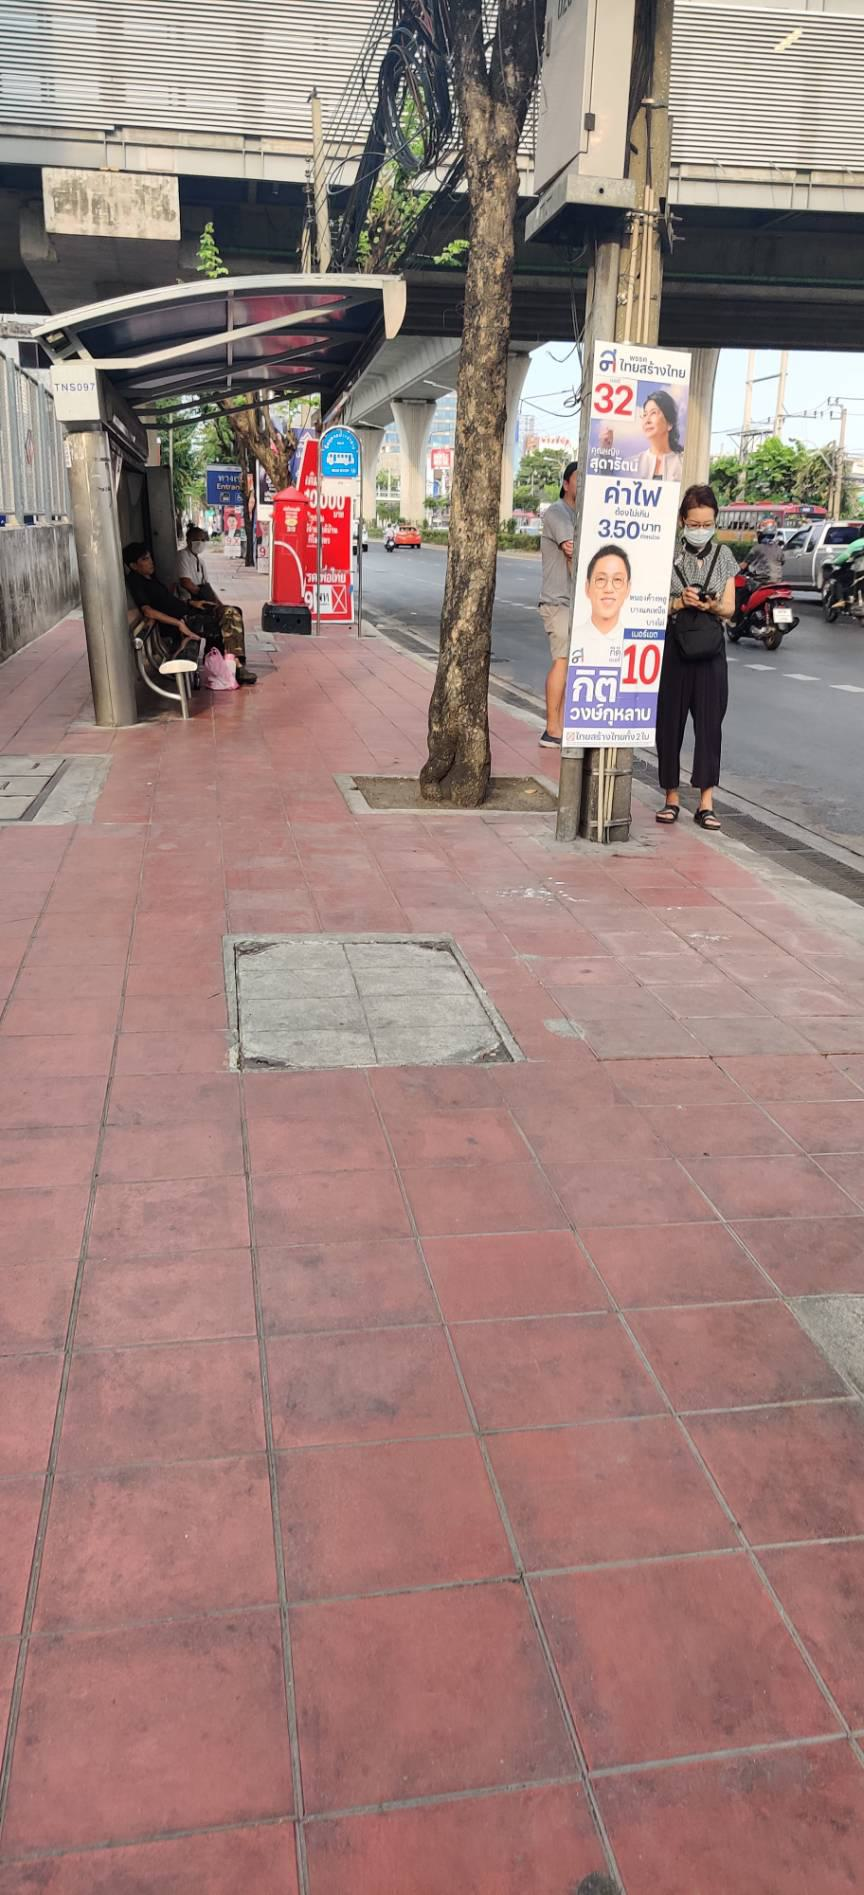Banner: (552, 340, 672, 749)
